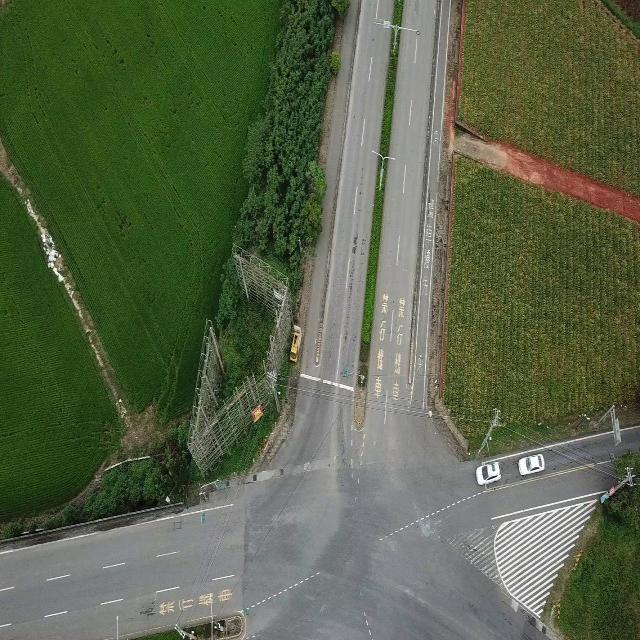car: (476, 460, 501, 487), (518, 453, 544, 476)
